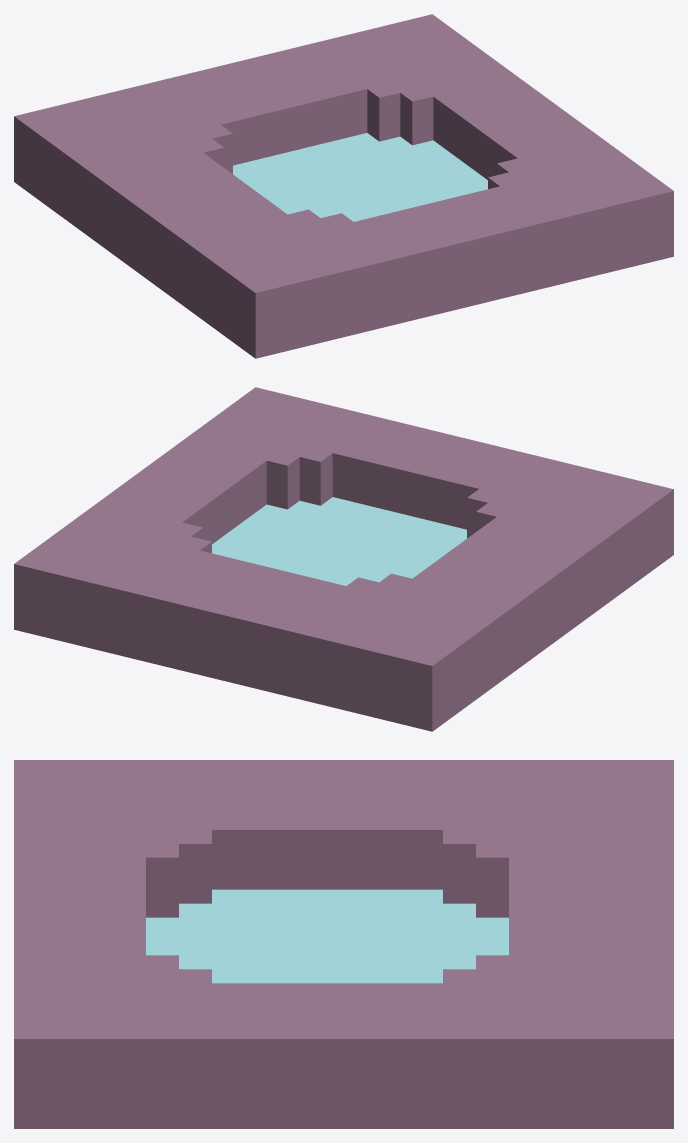
File: alien-biosphere-pool-tile-300a65d3__22761.glb
The picture shows the model from 3 angles, top to bottom: view 1: azimuth 30°, elevation 25°; view 2: azimuth 150°, elevation 25°; view 3: azimuth 270°, elevation 25°; orthographic projection. The views are drawn at different scales.
Visible parts, largest first — view 1: pool-tile; view 2: pool-tile; view 3: pool-tile.
Part boxes in pixels (<box>): pool-tile: <box>14,14,673,358</box>; pool-tile: <box>14,387,673,731</box>; pool-tile: <box>14,760,673,1128</box>.
Size of the model in its own units: 4 by 0.6001 by 4.
